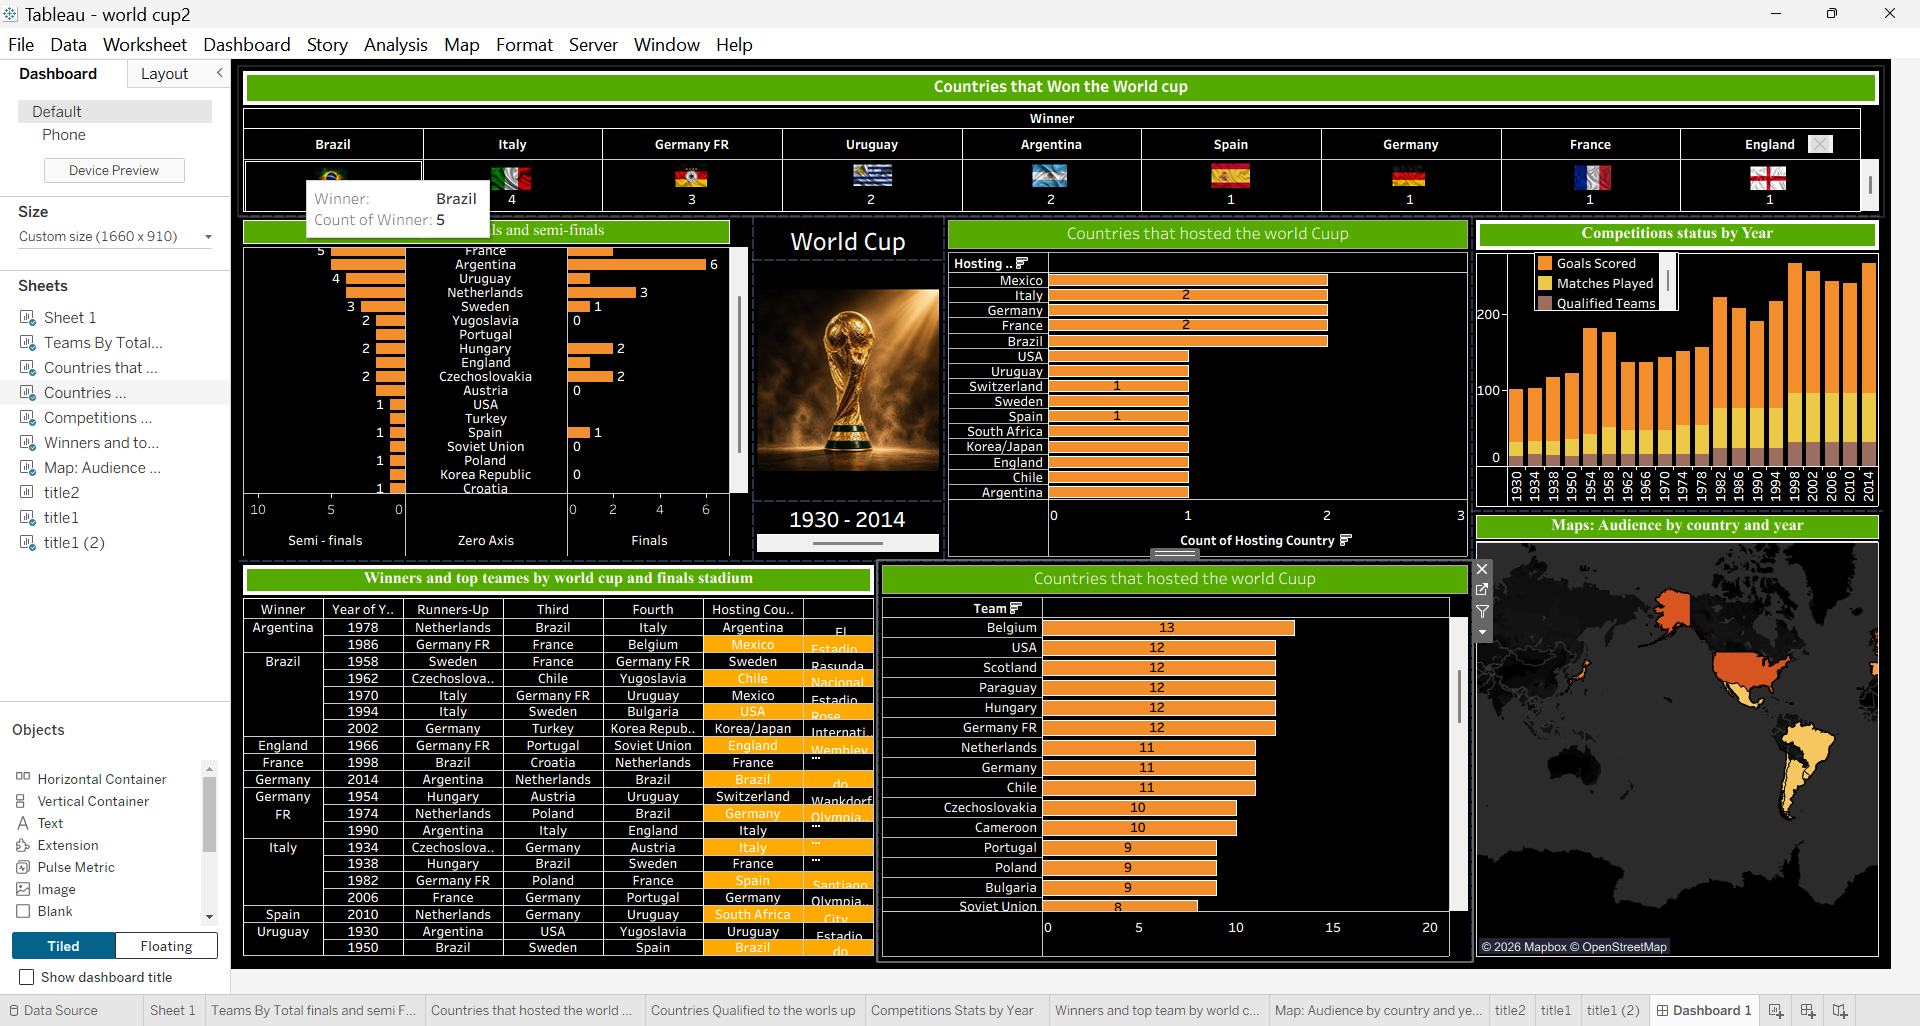

What the dashboard file says about the page in this screenshot:
{"tool":"tableau","page":{"name":"Dashboard 1","canvas":[1660,910],"ordinal":0},"visuals":[{"type":"worksheet","title":"Sheet 1","mark":"Text","cols":["Winner"],"box":[8,8,1644,149]},{"type":"dashboard-object","box":[1577,75.8,24.9,18.2]},{"type":"image","param":"C:/Users/LENOVO/OneDrive/Pictures/bc2234bfddd3e5277809c1dae8f5f347.jpg","box":[432.6,104,53.7,24]},{"type":"image","param":"C:/Users/LENOVO/OneDrive/Pictures/c3c17451a0fd64ea959a201024cb7529.jpg","box":[969.6,104,58.6,25]},{"type":"image","param":"C:/Users/LENOVO/OneDrive/Pictures/cc9d42bacbaaeea1e2e153be9b8cb475.jpg","box":[616.2,105,50.8,22]},{"type":"image","param":"C:/Users/LENOVO/OneDrive/Pictures/07fe4e176482cb9faf8666a50ce8e131.jpg","box":[780.2,105,77.1,23]},{"type":"image","param":"C:/Users/LENOVO/OneDrive/Pictures/02dcb38dda68aea1dc65d3e2db6ff3bd.jpg","box":[1147.4,106,62.5,21]},{"type":"image","param":"C:/Users/LENOVO/OneDrive/Pictures/00e5be0c12837b7e100c5f7b38383d48.jpg","box":[1342.6,106,48.8,25]},{"type":"image","param":"C:/Users/LENOVO/OneDrive/Pictures/843b0ceb2cc21ff2bc524016eb26d287.jpg","box":[1519.4,107,43,24]},{"type":"image","param":"C:/Users/LENOVO/OneDrive/Pictures/c636b153514a79373bce0fb7f942b5bc.jpg","box":[76.2,108,47.8,23]},{"type":"image","param":"C:/Users/LENOVO/OneDrive/Pictures/da51d0ff4ad9c8236fc9d058b85f8a4e.jpg","box":[259.7,108,50.8,23]},{"type":"worksheet","title":"Teams By Total finals and semi Finals","mark":"Automatic","rows":["Team"],"cols":["Calculation_1562965015687169","Calculation_1562965016817666","Calculation_1562965014253568"],"box":[8,157,514.4,345]},{"type":"worksheet","title":"title1","mark":"Automatic","box":[522.4,157,190.2,44]},{"type":"worksheet","title":"Countries that hosted the world Cup","mark":"Automatic","rows":["Country"],"cols":["Country"],"box":[712.7,157,528.3,345]},{"type":"worksheet","title":"Competitions Stats by Year","mark":"Bar","cols":["Year"],"box":[1240.9,157,411,294.7]},{"type":"legend","title":"Competitions Stats by Year","param":"[federated.0k20rrt1ct1s3j11faytw1t3i96j].[:Measure Names]","box":[1303.1,192.5,145.2,59.4]},{"type":"image","param":"C:/Users/LENOVO/OneDrive/Pictures/ca3004e359aa47082f5725e210838002.jpg","box":[522.4,201,190.2,241]},{"type":"worksheet","title":"title1 (2)","mark":"Automatic","box":[522.4,442,190.2,60]},{"type":"worksheet","title":"Map: Audience by country and year","mark":"Multipolygon","box":[1240.9,451.7,411,450.3]},{"type":"worksheet","title":"Winners and top team by world cup and finals stadium","mark":"Automatic","rows":["Winner","Year","Runners-Up","Third","Fourth","Country"],"box":[8,502,638.6,400]},{"type":"worksheet","title":"Countries Qualified to the worls up","mark":"Automatic","rows":["Team"],"cols":["Country"],"box":[646.6,502,594.3,400]}]}

Visuals, with their boxes on the page's 1660x910 design canvas (x1, y1, x2, y2). These are canvas units, not pixel positions in the 1920x1026 screenshot, which may show the page scaled, cropped or inside an application window:
"Sheet 1" worksheet (Text marks): (x1=8, y1=8, x2=1652, y2=157)
dashboard-object: (x1=1577, y1=76, x2=1602, y2=94)
image: (x1=433, y1=104, x2=486, y2=128)
image: (x1=970, y1=104, x2=1028, y2=129)
image: (x1=616, y1=105, x2=667, y2=127)
image: (x1=780, y1=105, x2=857, y2=128)
image: (x1=1147, y1=106, x2=1210, y2=127)
image: (x1=1343, y1=106, x2=1391, y2=131)
image: (x1=1519, y1=107, x2=1562, y2=131)
image: (x1=76, y1=108, x2=124, y2=131)
image: (x1=260, y1=108, x2=310, y2=131)
"Teams By Total finals and semi Finals" worksheet: (x1=8, y1=157, x2=522, y2=502)
"title1" worksheet: (x1=522, y1=157, x2=713, y2=201)
"Countries that hosted the world Cup" worksheet: (x1=713, y1=157, x2=1241, y2=502)
"Competitions Stats by Year" worksheet (Bar marks): (x1=1241, y1=157, x2=1652, y2=452)
"Competitions Stats by Year" legend: (x1=1303, y1=192, x2=1448, y2=252)
image: (x1=522, y1=201, x2=713, y2=442)
"title1 (2)" worksheet: (x1=522, y1=442, x2=713, y2=502)
"Map: Audience by country and year" worksheet (Multipolygon marks): (x1=1241, y1=452, x2=1652, y2=902)
"Winners and top team by world cup and finals stadium" worksheet: (x1=8, y1=502, x2=647, y2=902)
"Countries Qualified to the worls up" worksheet: (x1=647, y1=502, x2=1241, y2=902)
